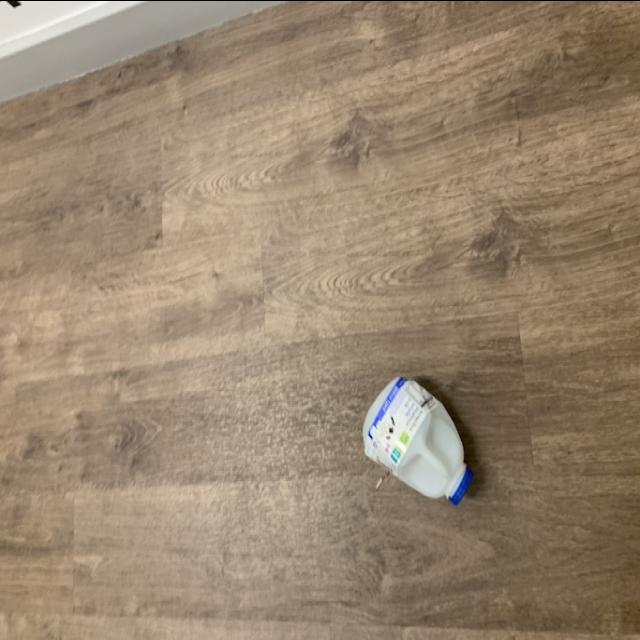litter: (362, 371, 476, 510)
